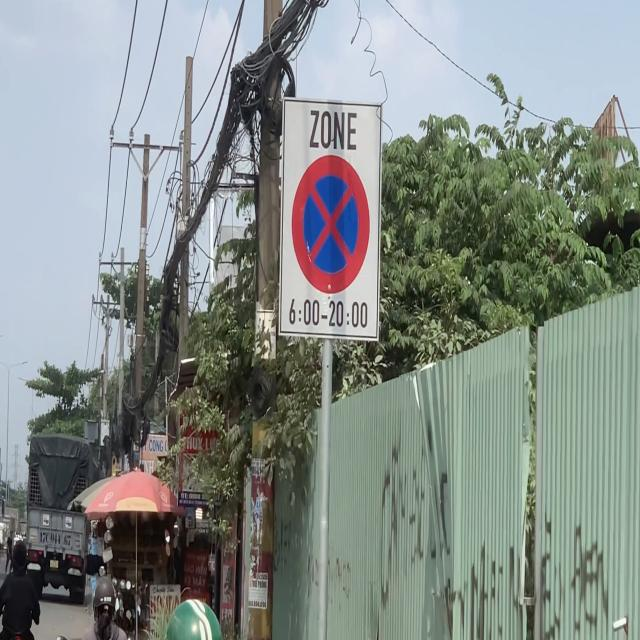Cam dung va do: (292, 154, 371, 294)
